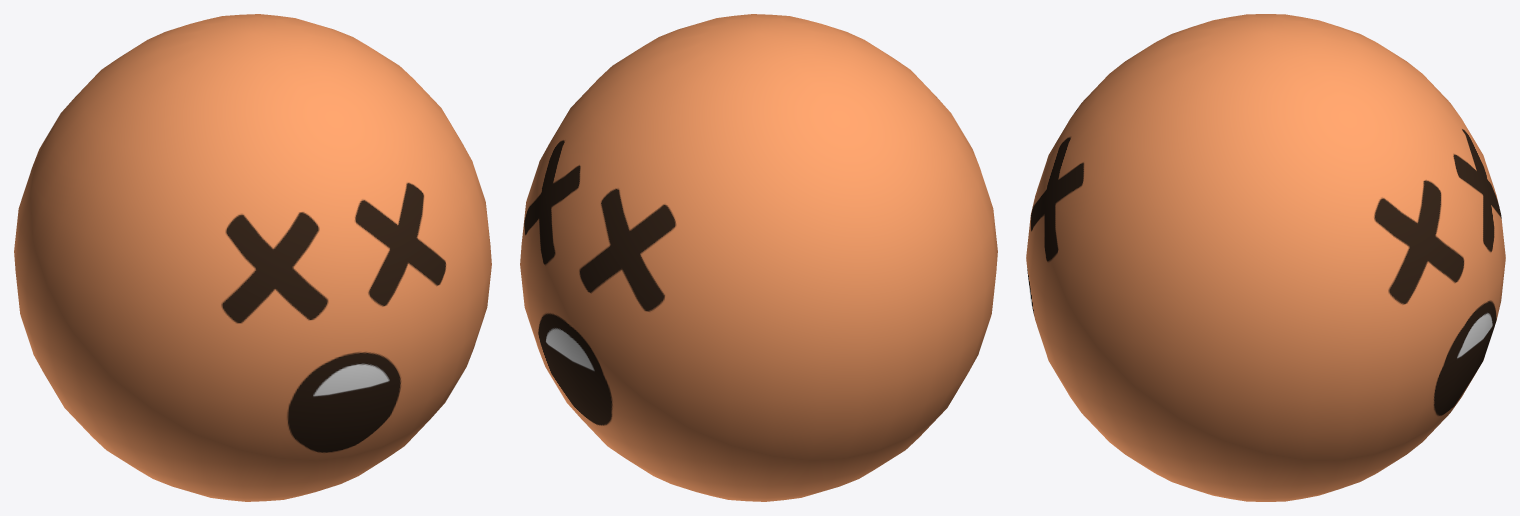
File: balltheme01_05_LOD0.fbx
The picture shows the model from 3 angles, left to right: view 1: azimuth 30°, elevation 25°; view 2: azimuth 150°, elevation 25°; view 3: azimuth 270°, elevation 25°; orthographic projection.
Parts seen in each view (by area): view 1: balltheme01_05_LOD0; view 2: balltheme01_05_LOD0; view 3: balltheme01_05_LOD0.
Part boxes in pixels (left/top/right/bottom): balltheme01_05_LOD0: left=14, top=14, right=491, bottom=501; balltheme01_05_LOD0: left=520, top=14, right=997, bottom=501; balltheme01_05_LOD0: left=1026, top=14, right=1505, bottom=501.
Bounding box in the file's own units: 5.5 × 5.67 × 5.5.
